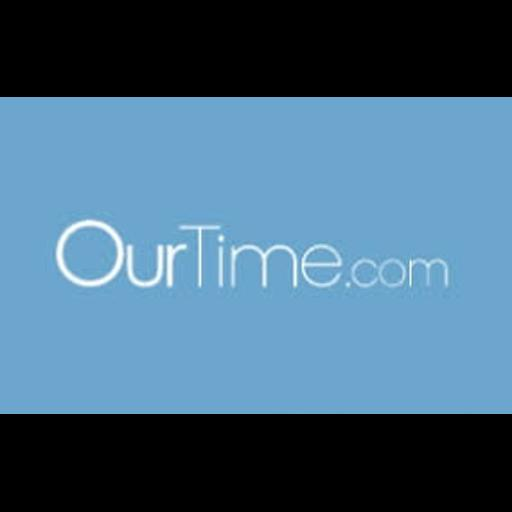OurTime Dating: (0, 97, 512, 414)
